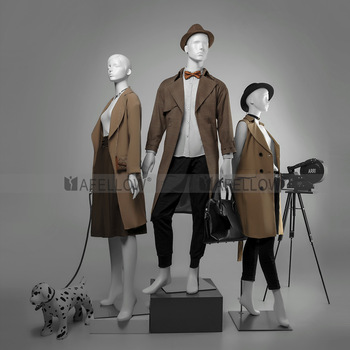person-like: (141, 21, 236, 299), (85, 50, 151, 326), (230, 78, 294, 332)
